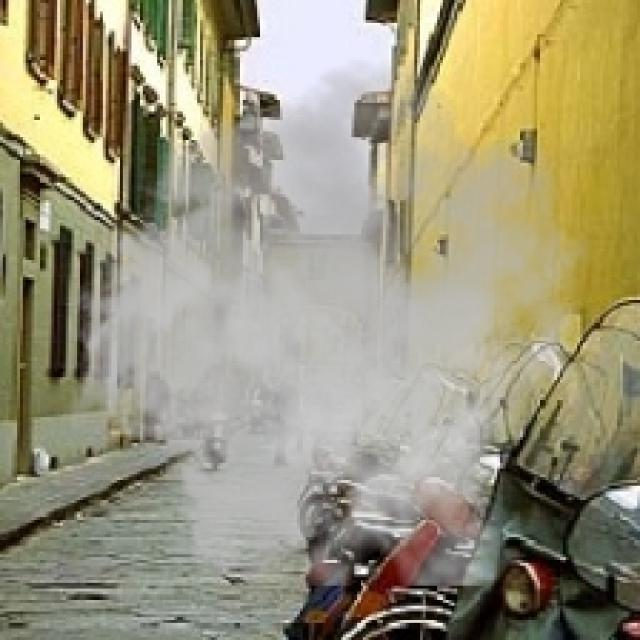smoke: (60, 57, 594, 586)
